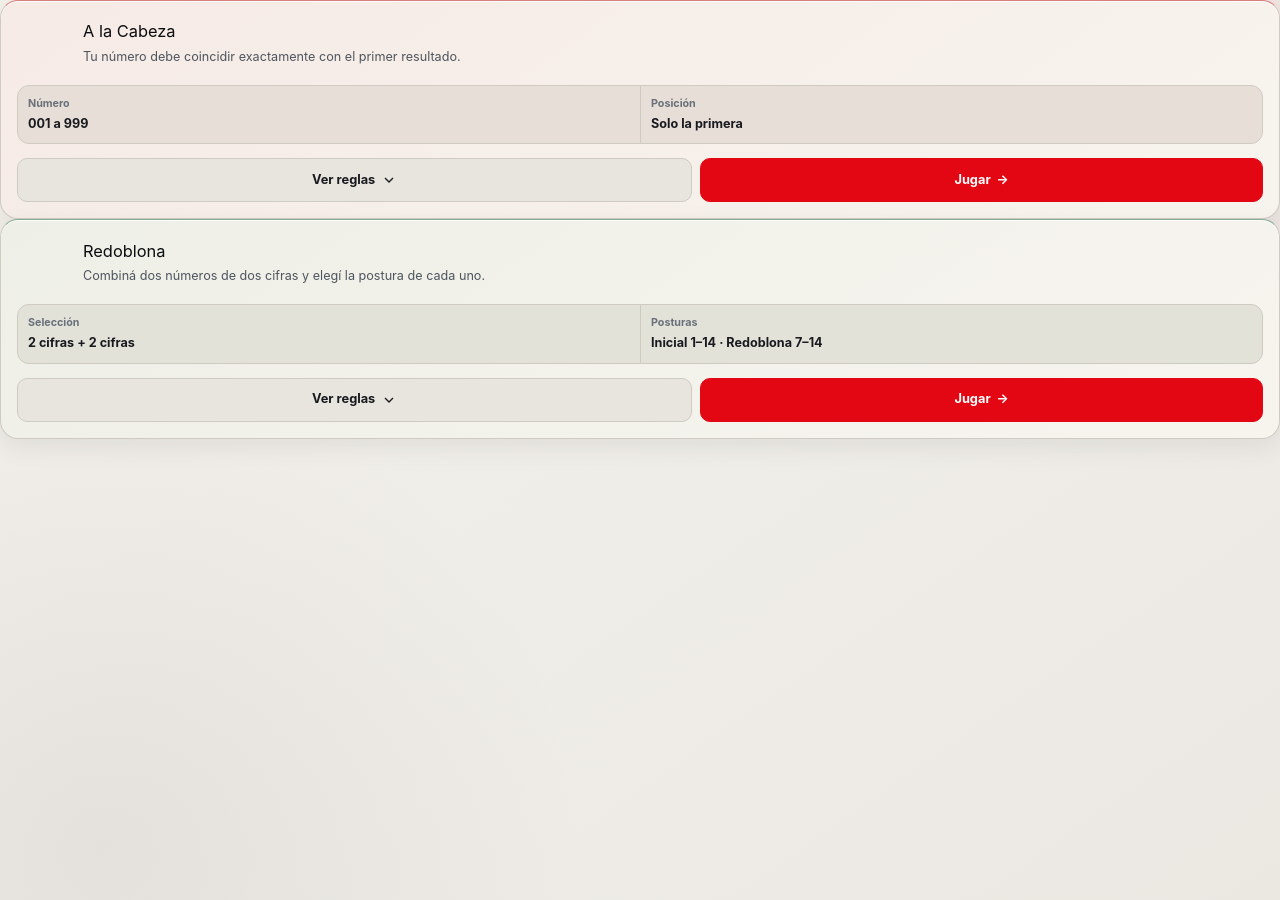
Scenario: RuleCard › keeps different card expansions independent with unique controls and non-nested game links
Click the button with aria-label "Ver reglas de Redoblona" at (355, 400), box [17, 378, 692, 422]
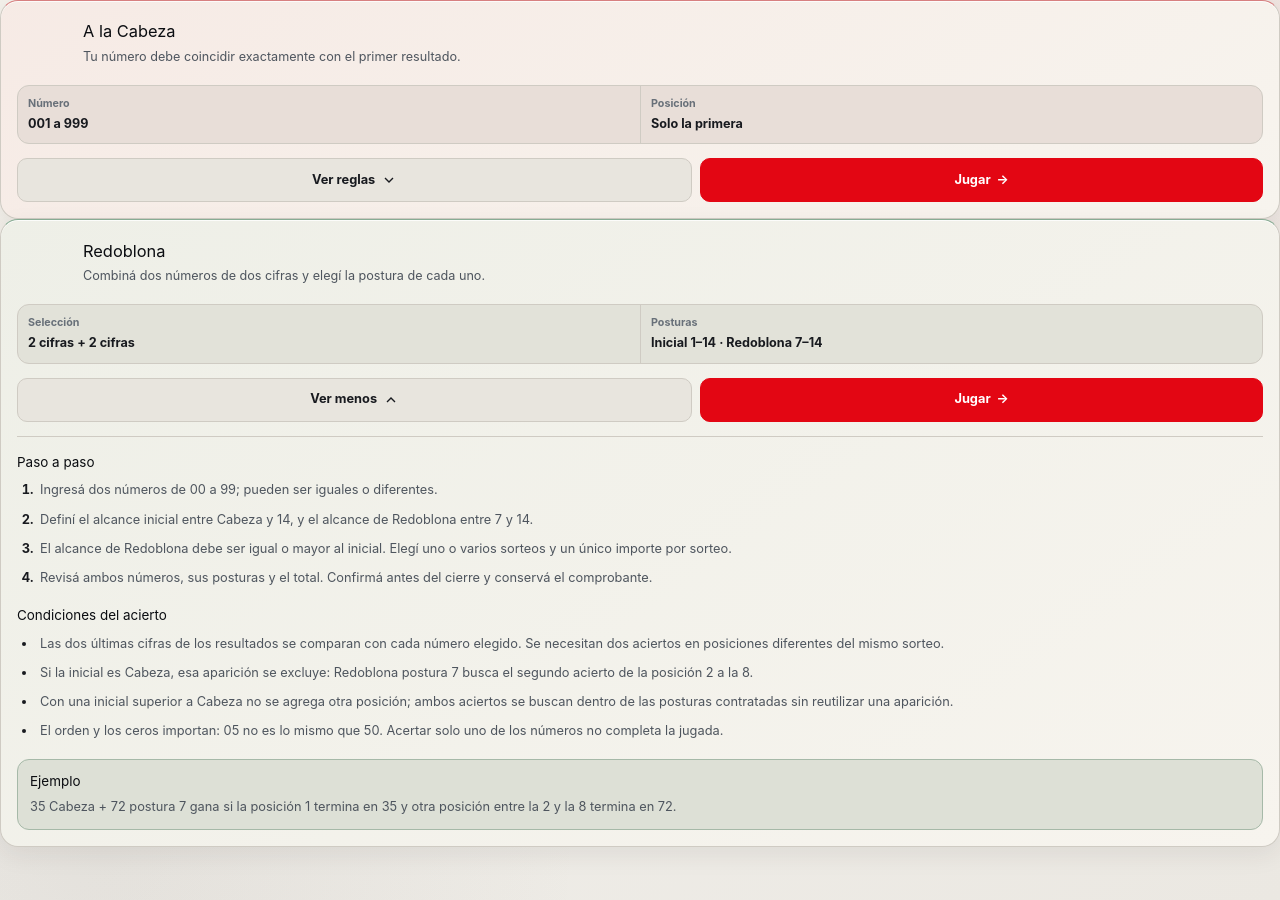
expect the button named "Ver reglas de Redoblona" is expanded: met, box [17, 378, 692, 422]
expect the number of list items is 8: met
